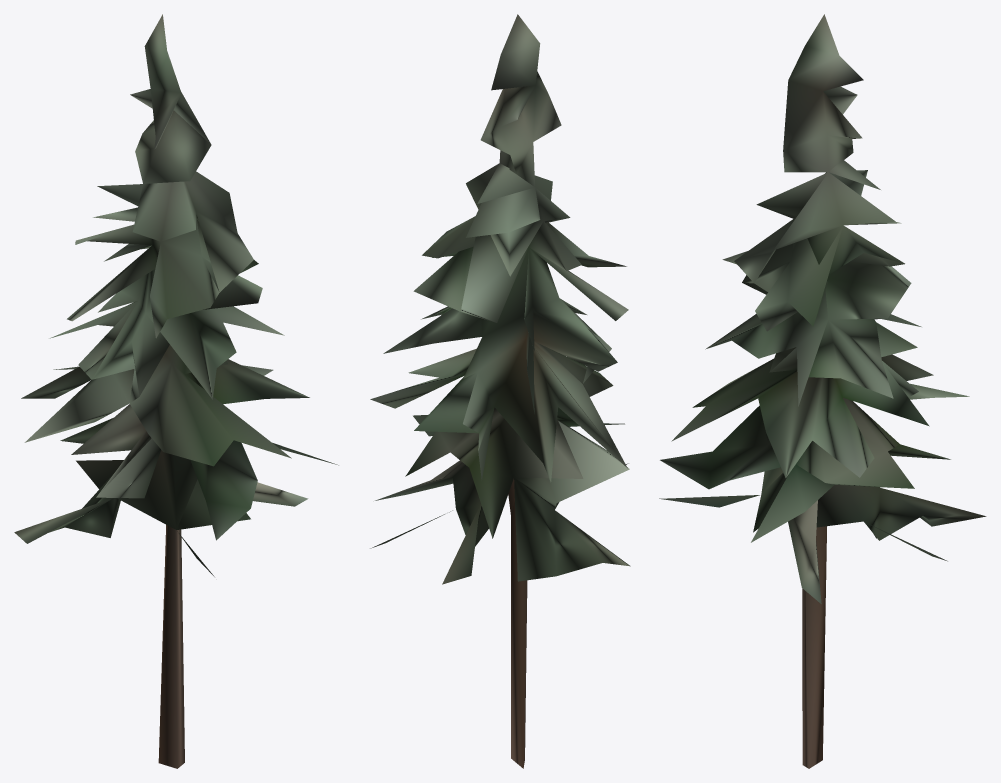
Rendered from pine_far.glb.
3 renders of one model, left to right at view 1: azimuth 30°, elevation 25°; view 2: azimuth 150°, elevation 25°; view 3: azimuth 270°, elevation 25°, orthographic.
Parts seen in each view (by area): view 1: pine; view 2: pine; view 3: pine.
Boxes of the visible parts, bbox=[...] form: pine: bbox=[14, 14, 338, 768]; pine: bbox=[370, 14, 630, 768]; pine: bbox=[659, 14, 986, 768].
Size of the model in its own units: 0.3828 by 1 by 0.3967.
